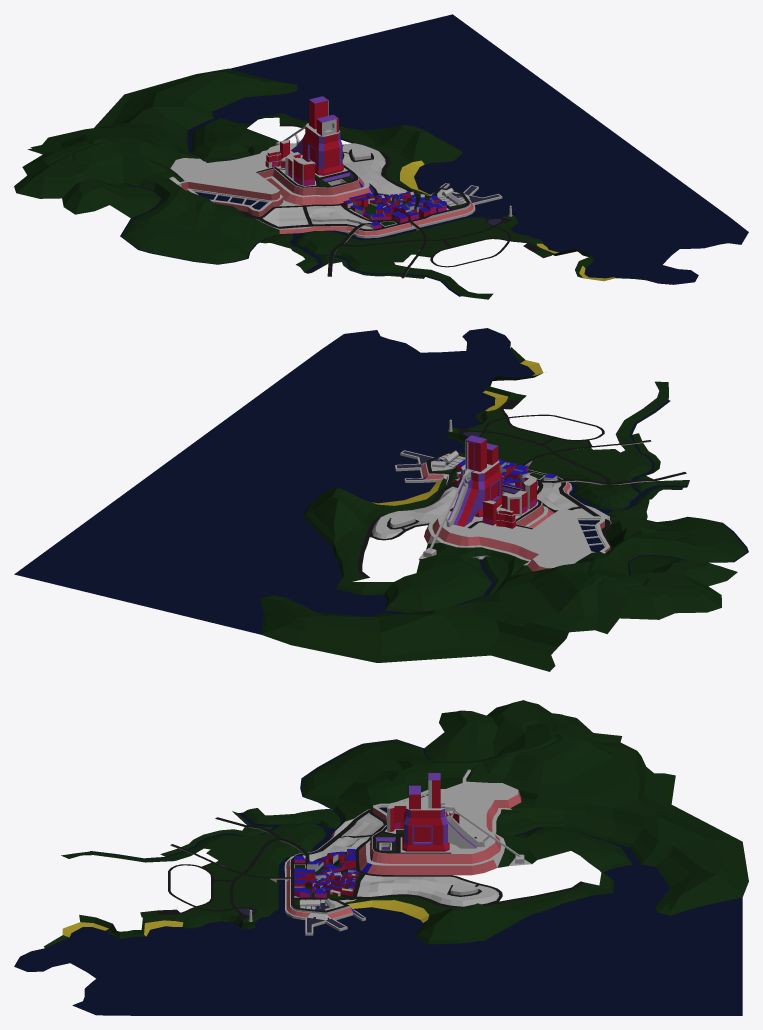
File: map.obj
The picture shows the model from 3 angles, top to bottom: view 1: azimuth 30°, elevation 25°; view 2: azimuth 150°, elevation 25°; view 3: azimuth 270°, elevation 25°; orthographic projection. The views are drawn at different scales.
Visible parts, largest first — view 1: city_Cube; view 2: city_Cube; view 3: city_Cube.
Part boxes in pixels (x1,y1,x2,y2): city_Cube: (14,14,748,299); city_Cube: (14,328,748,671); city_Cube: (14,700,748,1015).
Bounding box in the file's own units: 2472 × 375 × 2690.
